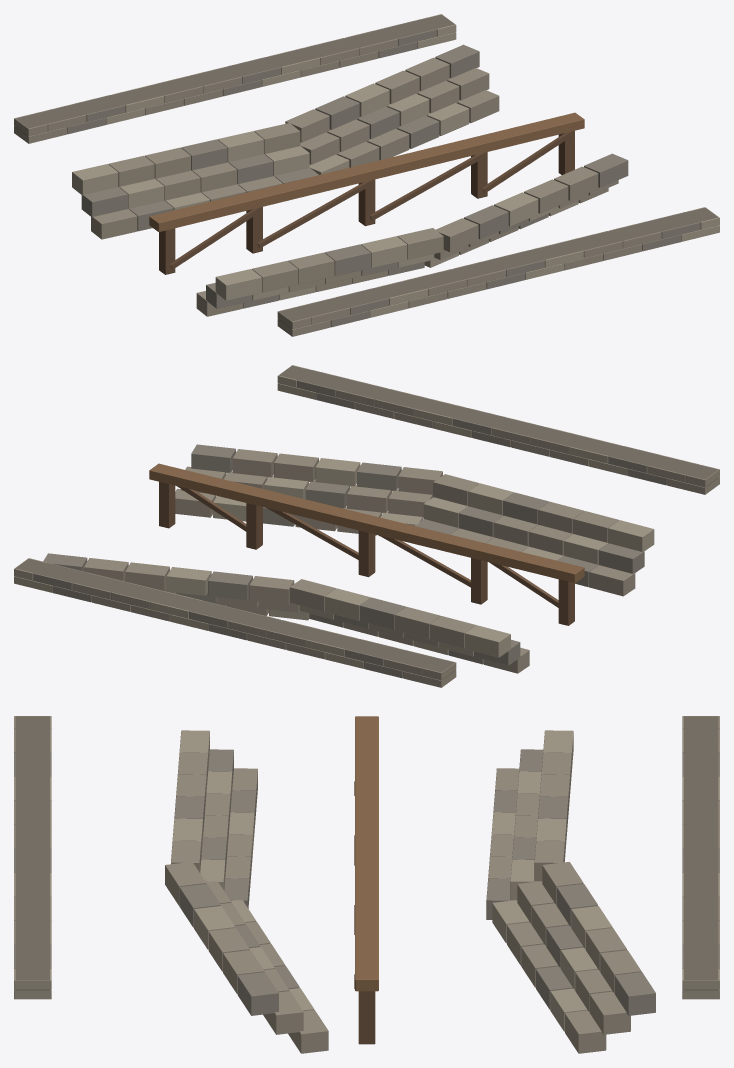
File: BridgeSupports.glb
3 renders of one model, top to bottom at view 1: azimuth 30°, elevation 25°; view 2: azimuth 150°, elevation 25°; view 3: azimuth 270°, elevation 25°, orthographic. The views are drawn at different scales.
Parts seen in each view (by area): view 1: BankFacing-col, Abutments-col, Bent-col; view 2: BankFacing-col, Abutments-col, Bent-col; view 3: BankFacing-col, Abutments-col, Bent-col.
Boxes of the visible parts, x1,y1,x2,y2 form: BankFacing-col: (72,44,628,316); Abutments-col: (14,14,719,336); Bent-col: (149,112,584,274); BankFacing-col: (43,444,654,673); Abutments-col: (14,365,719,687); Bent-col: (149,463,584,625); BankFacing-col: (165,730,655,1053); Abutments-col: (14,716,719,999); Bent-col: (354,716,378,1044).
Bounding box in the file's own units: 12.05 × 1.53 × 13.52.
